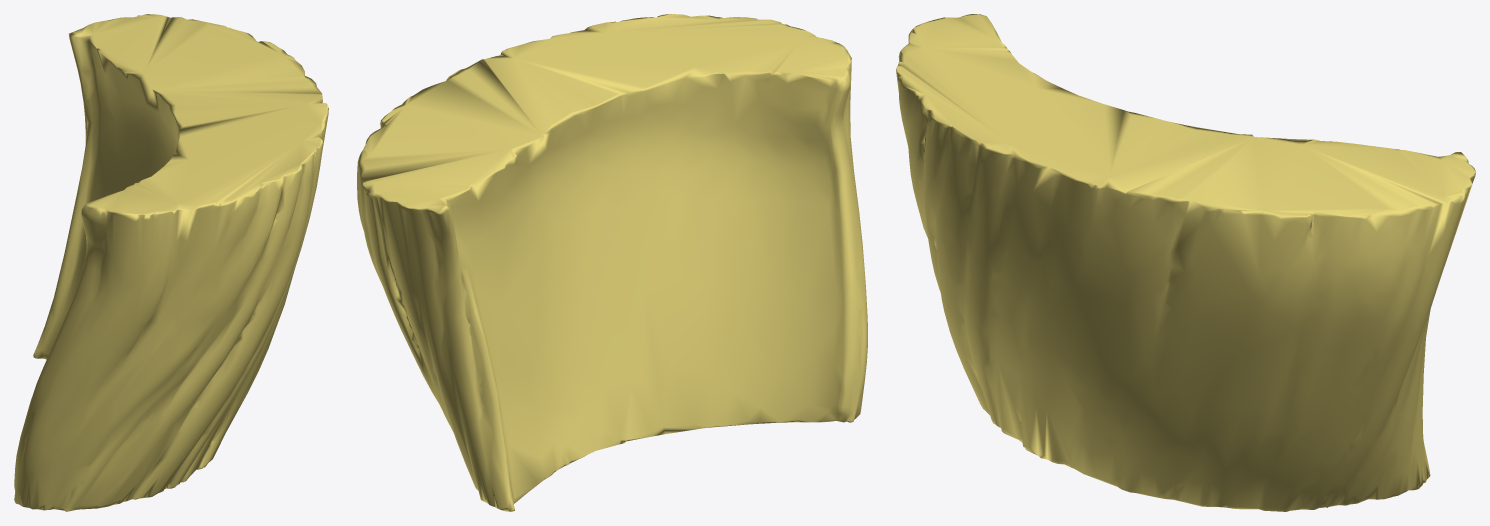
The model's file is base-of-peduncle-l.glb.
3 renders of one model, left to right at view 1: azimuth 30°, elevation 25°; view 2: azimuth 150°, elevation 25°; view 3: azimuth 270°, elevation 25°, orthographic. The views are drawn at different scales.
Visible parts, largest first — view 1: Base of peduncle.l; view 2: Base of peduncle.l; view 3: Base of peduncle.l.
Boxes of the visible parts, x1,y1,x2,y2 form: Base of peduncle.l: (14, 14, 328, 511); Base of peduncle.l: (357, 14, 867, 511); Base of peduncle.l: (896, 14, 1475, 511).
Bounding box in the file's own units: 0.0188 × 0.0163 × 0.0223.
